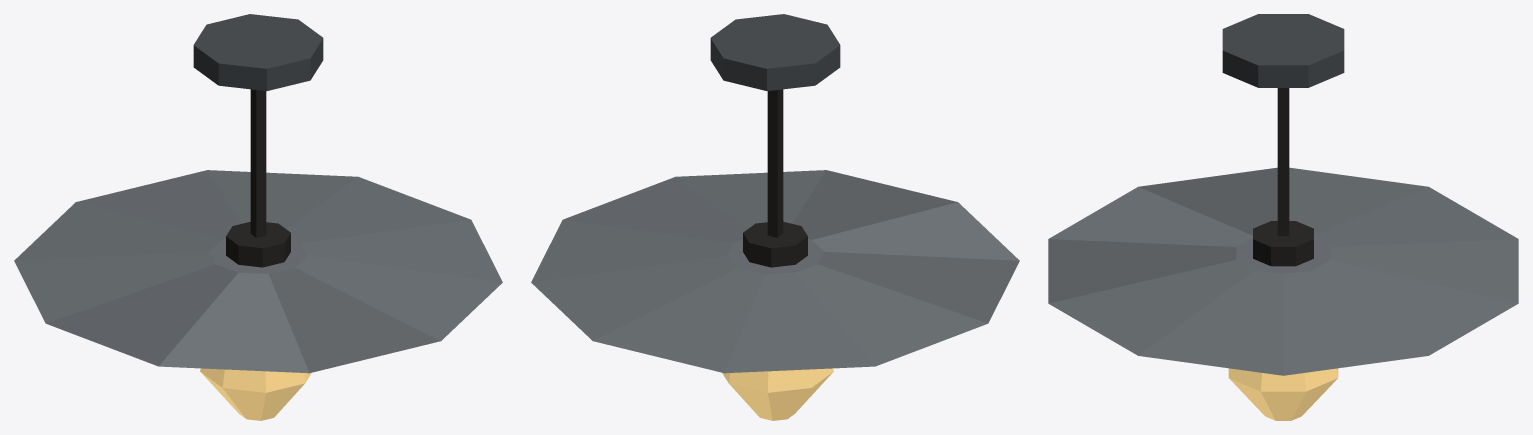
Rendered from lamp_ceiling_lampa_nakalivaniya_idle.glb.
3 views of the same model, side by side, from view 1: azimuth 30°, elevation 25°; view 2: azimuth 150°, elevation 25°; view 3: azimuth 270°, elevation 25° (orthographic).
Parts seen in each view (by area): view 1: lamp_ceiling_lampa_nakalivaniya_idle; view 2: lamp_ceiling_lampa_nakalivaniya_idle; view 3: lamp_ceiling_lampa_nakalivaniya_idle.
Part boxes in pixels (box(x1,y1,x2,y2)): lamp_ceiling_lampa_nakalivaniya_idle: box(14, 14, 502, 420); lamp_ceiling_lampa_nakalivaniya_idle: box(531, 14, 1019, 420); lamp_ceiling_lampa_nakalivaniya_idle: box(1048, 14, 1518, 420).
Bounding box in the file's own units: 0.3 × 0.25 × 0.2853.
2 materials, 2 textured.
